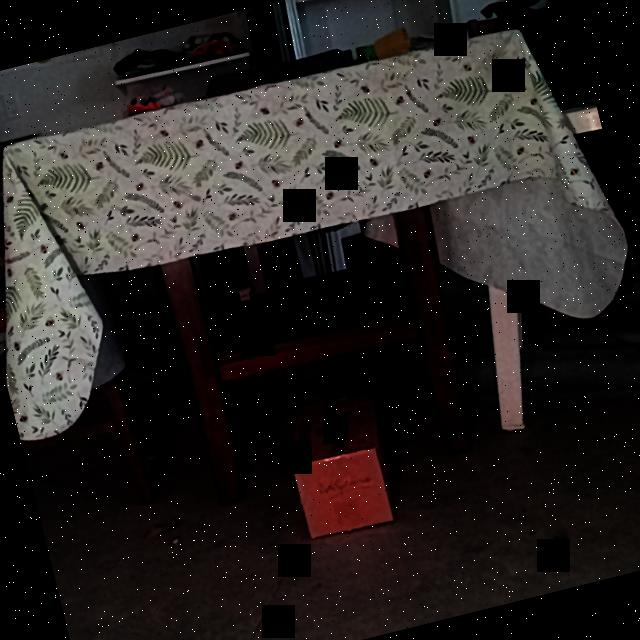box: (292, 446, 392, 539)
